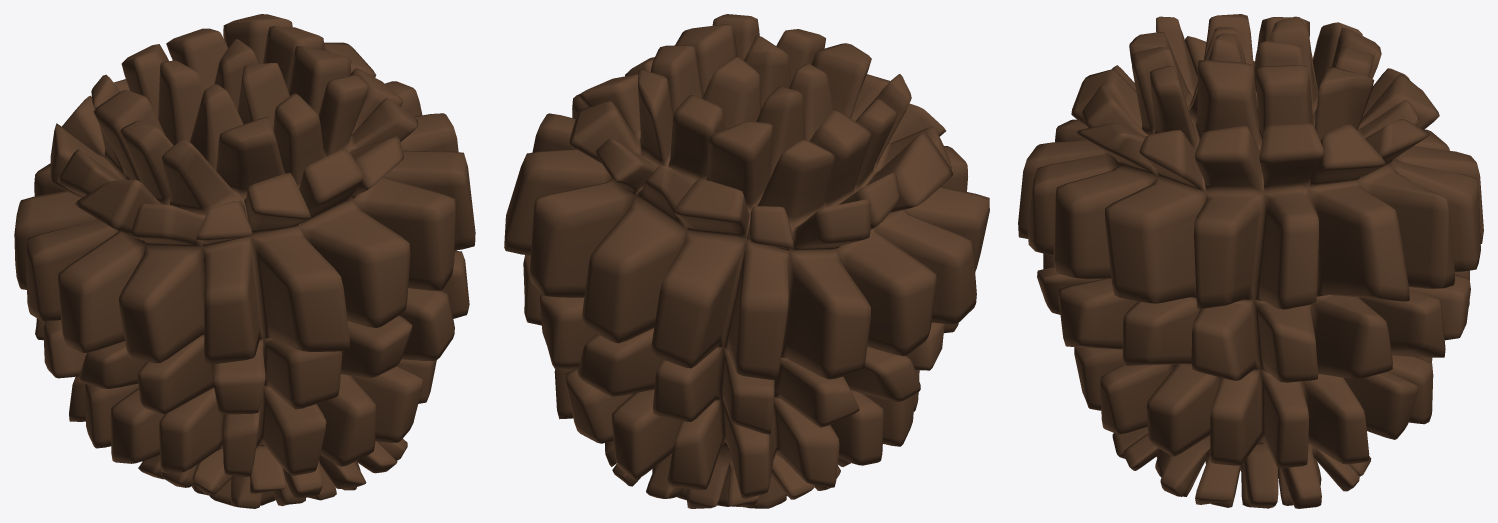
The model's file is pinecone.fbx.
The picture shows the model from 3 angles, left to right: view 1: azimuth 30°, elevation 25°; view 2: azimuth 150°, elevation 25°; view 3: azimuth 270°, elevation 25°; orthographic projection.
Visible parts, largest first — view 1: high_poly_pine; view 2: high_poly_pine; view 3: high_poly_pine.
Part boxes in pixels (bbox=[...]): high_poly_pine: bbox=[14, 14, 475, 508]; high_poly_pine: bbox=[504, 14, 989, 508]; high_poly_pine: bbox=[1018, 14, 1483, 508].
Bounding box in the file's own units: 108 × 115 × 109.
